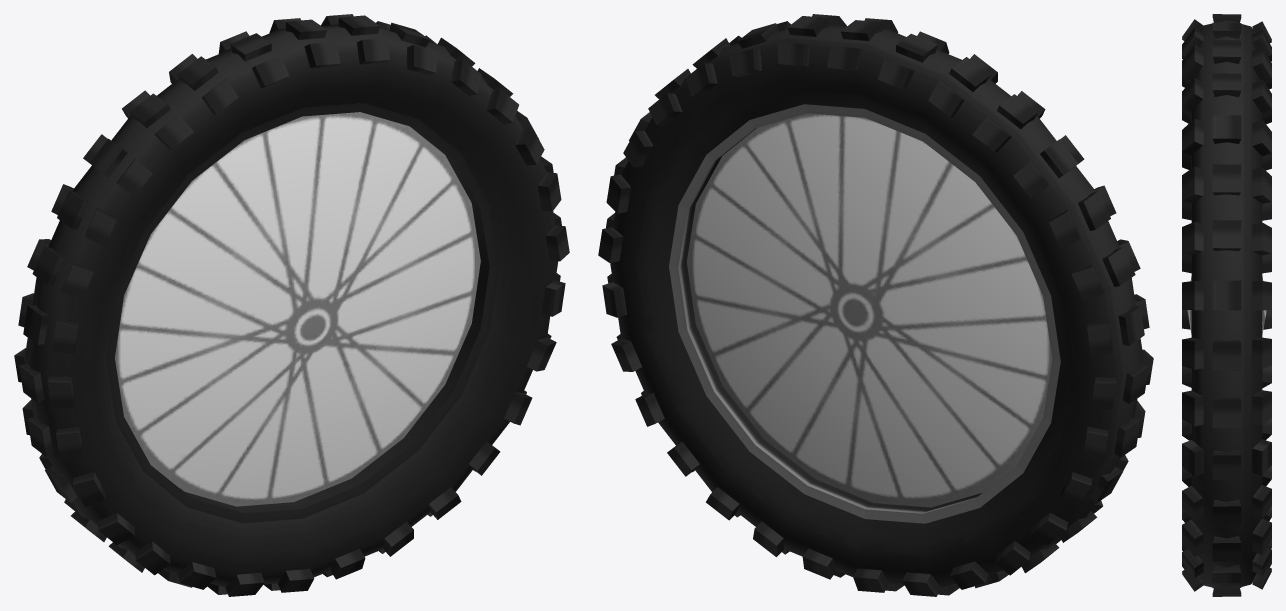
File: WheelB_Honda.fbx
3 views of the same model, side by side, from view 1: azimuth 30°, elevation 25°; view 2: azimuth 150°, elevation 25°; view 3: azimuth 270°, elevation 25° (orthographic). The views are drawn at different scales.
Parts seen in each view (by area): view 1: Cr250_WheelB; view 2: Cr250_WheelB; view 3: Cr250_WheelB.
Part boxes in pixels (left/top/right/bottom): Cr250_WheelB: left=14, top=14, right=569, bottom=596; Cr250_WheelB: left=598, top=14, right=1153, bottom=596; Cr250_WheelB: left=1182, top=14, right=1271, bottom=596.
Size of the model in its own units: 54.71 by 54.71 by 8.37.
